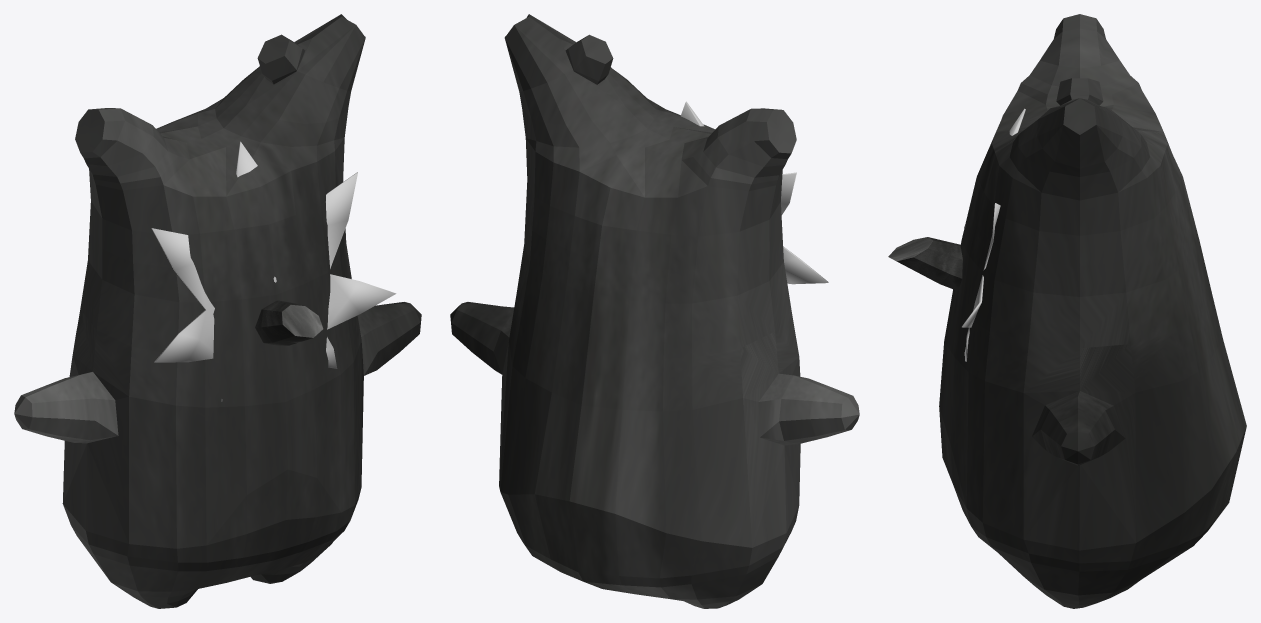
Rendered from frame_0042.obj.
3 views of the same model, side by side, from view 1: azimuth 30°, elevation 25°; view 2: azimuth 150°, elevation 25°; view 3: azimuth 270°, elevation 25° (orthographic).
Parts seen in each view (by area): view 1: korok, leaf.003_柱体.013, nose.003_柱体.011; view 2: korok, leaf.003_柱体.013; view 3: korok, nose.003_柱体.011, leaf.003_柱体.013.
Part boxes in pixels (x1,y1,x2,y2): korok: [14, 14, 421, 608]; leaf.003_柱体.013: [151, 141, 396, 401]; nose.003_柱体.011: [255, 300, 323, 345]; korok: [450, 14, 859, 608]; leaf.003_柱体.013: [680, 101, 828, 284]; korok: [939, 14, 1246, 608]; nose.003_柱体.011: [888, 237, 962, 290]; leaf.003_柱体.013: [962, 108, 1025, 361].
Size of the model in its own units: 1.77 by 2.27 by 1.36.
